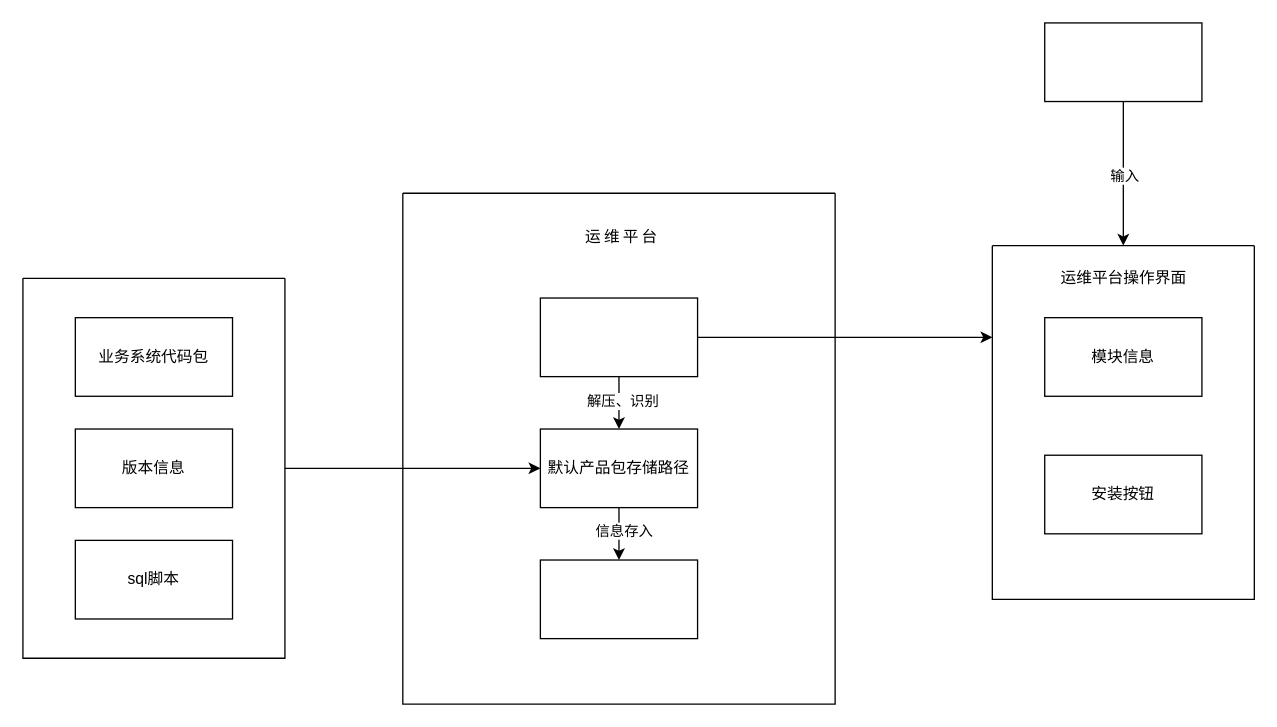
This 1277x727 diagram has some shape labels left out. Here are the shapes that lost their labels. From the top down, the centre of each, then its label:
point 1122,62: 服务信息
point 618,337: 运维平台服务
point 618,599: 运维平台数据库
